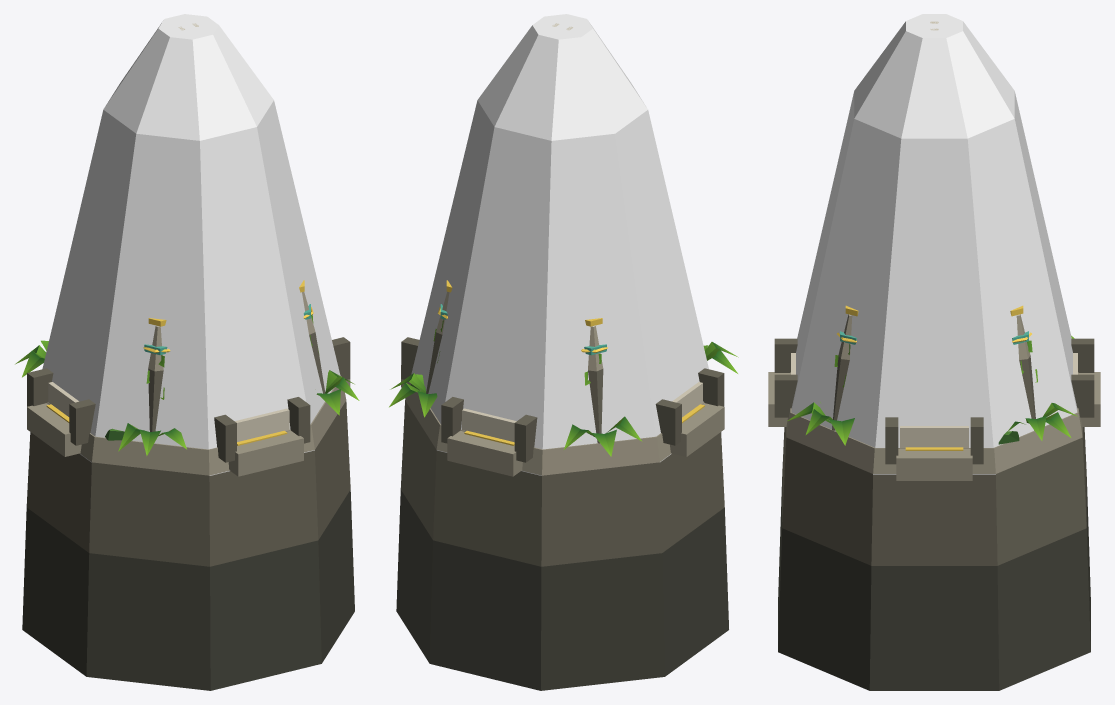
The model's file is ancient_astral_tide_obelisk.glb.
3 views of the same model, side by side, from view 1: azimuth 30°, elevation 25°; view 2: azimuth 150°, elevation 25°; view 3: azimuth 270°, elevation 25° (orthographic).
Parts seen in each view (by area): view 1: ancient_astral_tide_obelisk, col_astralobelisk_base; view 2: ancient_astral_tide_obelisk, col_astralobelisk_base; view 3: ancient_astral_tide_obelisk, col_astralobelisk_base.
Part boxes in pixels (bbox=[...]): ancient_astral_tide_obelisk: bbox=[15, 23, 359, 690]; col_astralobelisk_base: bbox=[42, 14, 340, 690]; ancient_astral_tide_obelisk: bbox=[389, 23, 738, 690]; col_astralobelisk_base: bbox=[411, 14, 708, 688]; ancient_astral_tide_obelisk: bbox=[768, 21, 1100, 690]; col_astralobelisk_base: bbox=[791, 14, 1077, 474].
Size of the model in its own units: 4.52 by 8.98 by 4.52.
